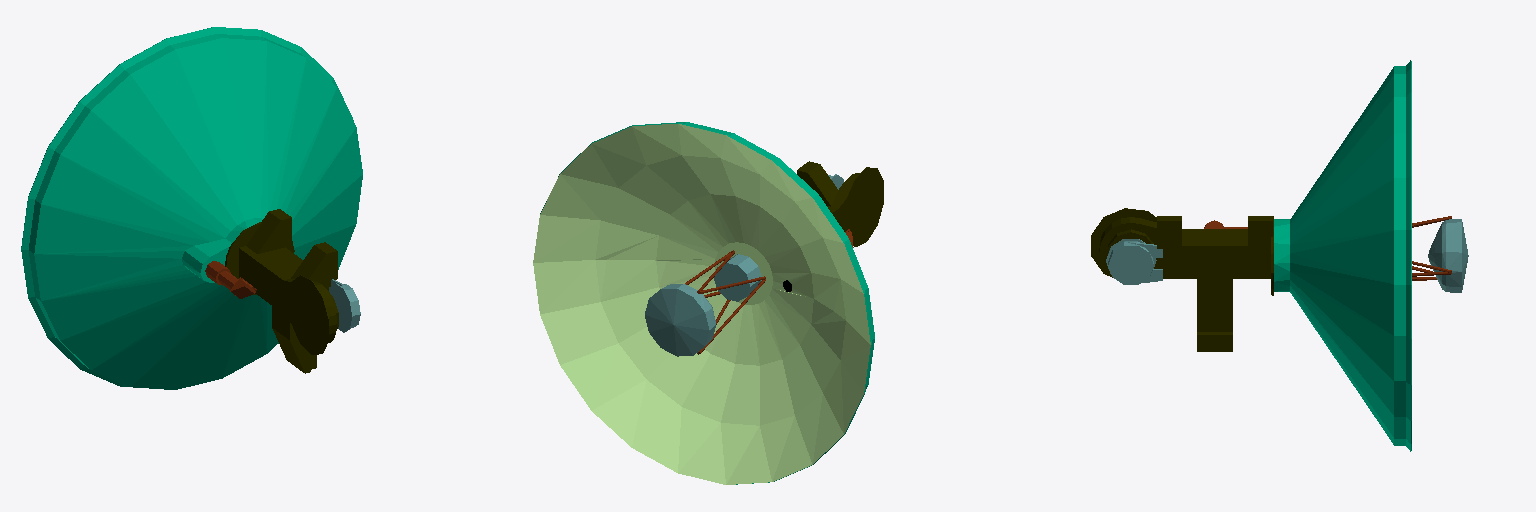
Rendered from LRO_HGA_Dish.obj.
3 renders of one model, left to right at view 1: azimuth 30°, elevation 25°; view 2: azimuth 150°, elevation 25°; view 3: azimuth 270°, elevation 25°, orthographic.
Parts seen in each view (by area): view 1: HGA_Dish; view 2: HGA_Dish; view 3: HGA_Dish.
Part boxes in pixels (left/top/right/bottom): HGA_Dish: left=21, top=27, right=362, bottom=389; HGA_Dish: left=533, top=122, right=883, bottom=484; HGA_Dish: left=1091, top=60, right=1468, bottom=451.
Size of the model in its own units: 0.7845 by 0.7765 by 0.7567.